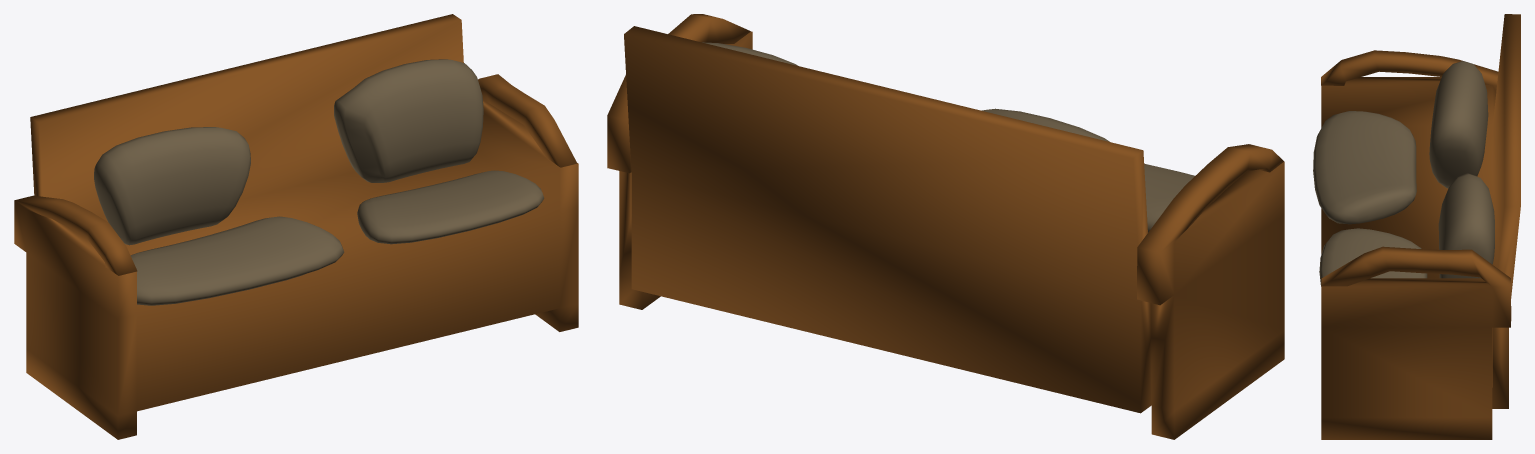
File: sillon 1.fbx
3 renders of one model, left to right at view 1: azimuth 30°, elevation 25°; view 2: azimuth 150°, elevation 25°; view 3: azimuth 270°, elevation 25°, orthographic. The views are drawn at different scales.
Visible parts, largest first — view 1: sillon. 2; view 2: sillon. 2; view 3: sillon. 2.
Part boxes in pixels (left/top/right/bottom): sillon. 2: left=14, top=14, right=578, bottom=439; sillon. 2: left=607, top=14, right=1284, bottom=439; sillon. 2: left=1313, top=14, right=1520, bottom=439.
Bounding box in the file's own units: 47.15 × 23.51 × 19.7.
